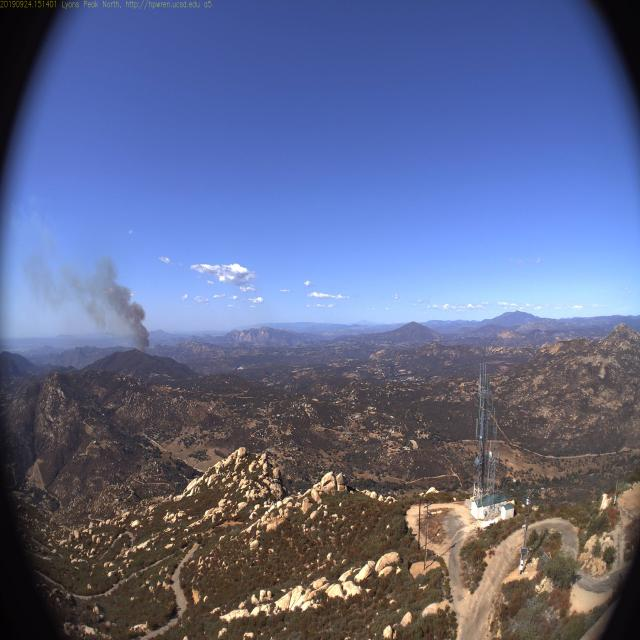smoke: (122, 322, 153, 360)
